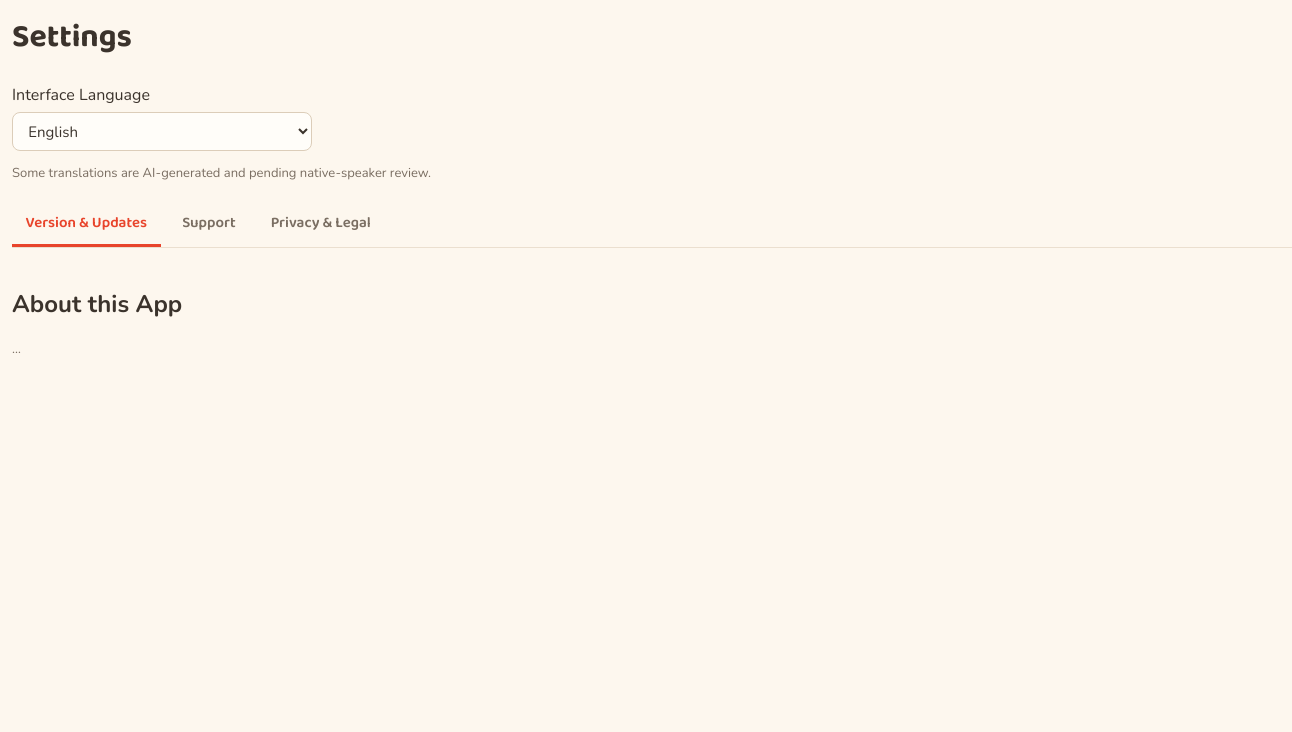
it: SettingsScreen — Support tab › shows a hint instead of crashing when no mail client is available to handle the support email
Click the tab "Support".
click(209, 225)  # box [169,202,249,247]
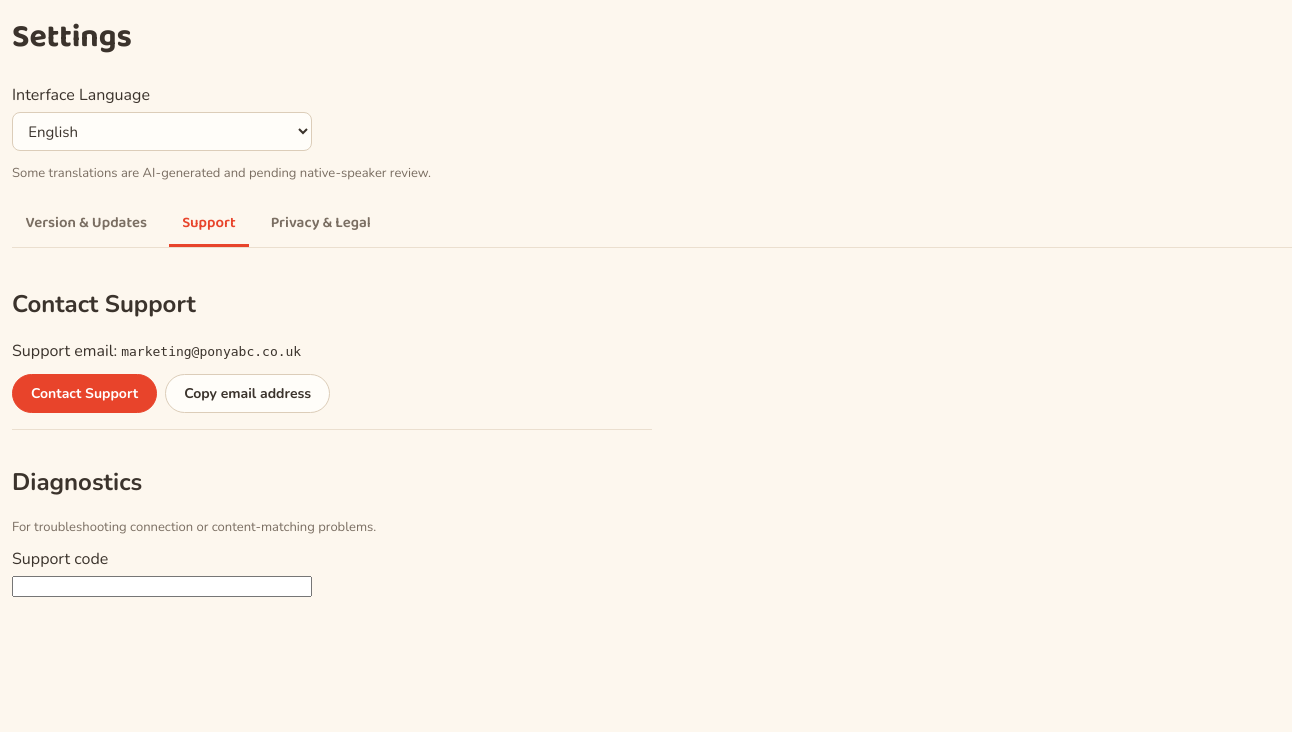
Click the button "Contact Support".
click(85, 394)  # box [12,374,157,413]
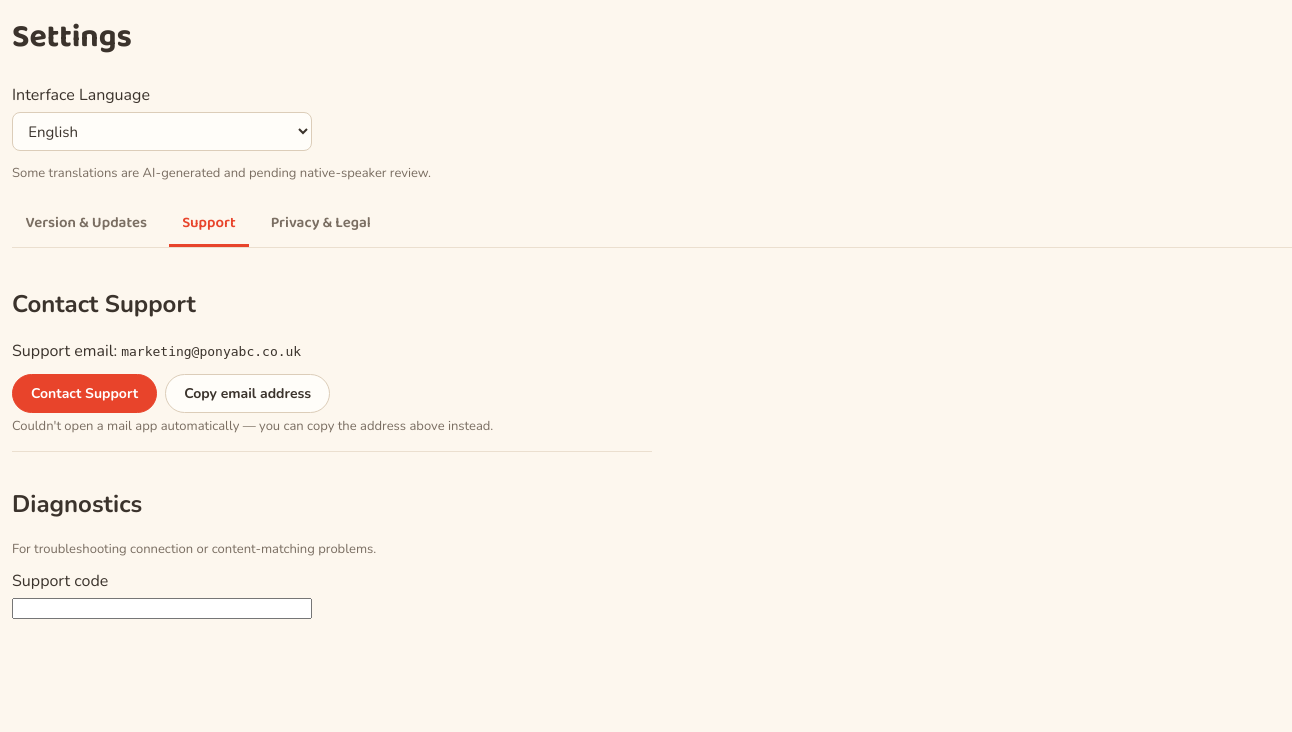
expect the text "Couldn't open a mail app automatically — you can copy the address above instead." is shown: met, box [12,417,493,435]
